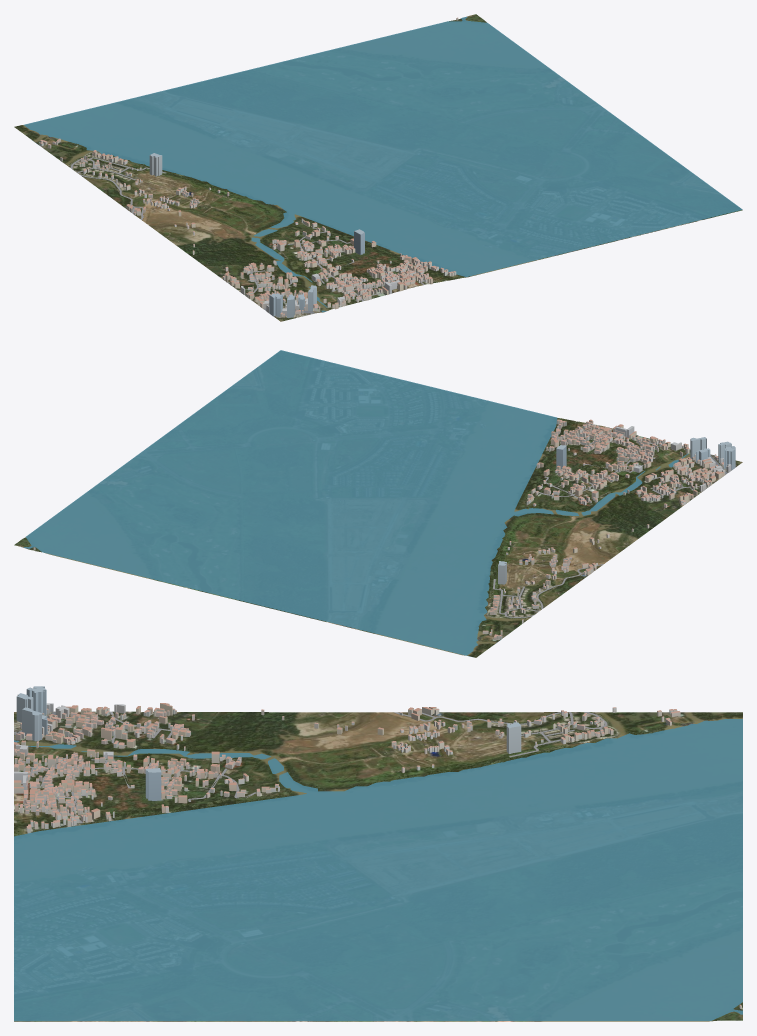
The picture shows the model from 3 angles, top to bottom: view 1: azimuth 30°, elevation 25°; view 2: azimuth 150°, elevation 25°; view 3: azimuth 270°, elevation 25°; orthographic projection. The views are drawn at different scales.
Visible parts, largest first — view 1: WATER, TERRAIN, BLDG_TUBE_HOUSE, BLDG_SHOPHOUSE, BLDG_MODERN_TOWER, ROAD_METRO; view 2: WATER, TERRAIN, BLDG_TUBE_HOUSE, BLDG_SHOPHOUSE, BLDG_MODERN_TOWER, ROAD_METRO, BLDG_APARTMENT; view 3: WATER, TERRAIN, BLDG_TUBE_HOUSE, BLDG_SHOPHOUSE, BLDG_MODERN_TOWER, ROAD_METRO, BLDG_APARTMENT.
Boxes of the visible parts, x1,y1,x2,y2 form: WATER: (24, 16, 742, 312); TERRAIN: (14, 14, 742, 321); BLDG_TUBE_HOUSE: (39, 17, 458, 317); BLDG_SHOPHOUSE: (93, 151, 432, 309); BLDG_MODERN_TOWER: (149, 153, 364, 317); ROAD_METRO: (70, 157, 424, 314); WATER: (21, 350, 688, 657); TERRAIN: (14, 418, 742, 657); BLDG_TUBE_HOUSE: (33, 419, 727, 639); BLDG_SHOPHOUSE: (492, 419, 724, 613); BLDG_MODERN_TOWER: (498, 437, 735, 584); ROAD_METRO: (493, 425, 727, 617); BLDG_APARTMENT: (615, 426, 731, 491); WATER: (14, 719, 742, 1020); TERRAIN: (14, 711, 742, 1021); BLDG_TUBE_HOUSE: (14, 707, 741, 1008); BLDG_SHOPHOUSE: (14, 703, 608, 826); BLDG_MODERN_TOWER: (16, 686, 521, 800); ROAD_METRO: (14, 711, 607, 823); BLDG_APARTMENT: (14, 703, 125, 789).
Size of the model in its own units: 2000 by 91.21 by 2000.
7 materials, 1 textured.
